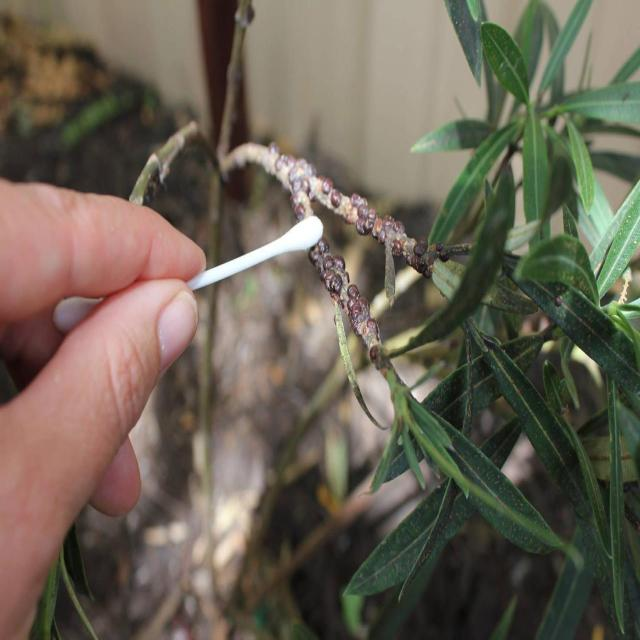Black Scale: (260, 143, 406, 246), (308, 238, 381, 359), (392, 235, 452, 278)
